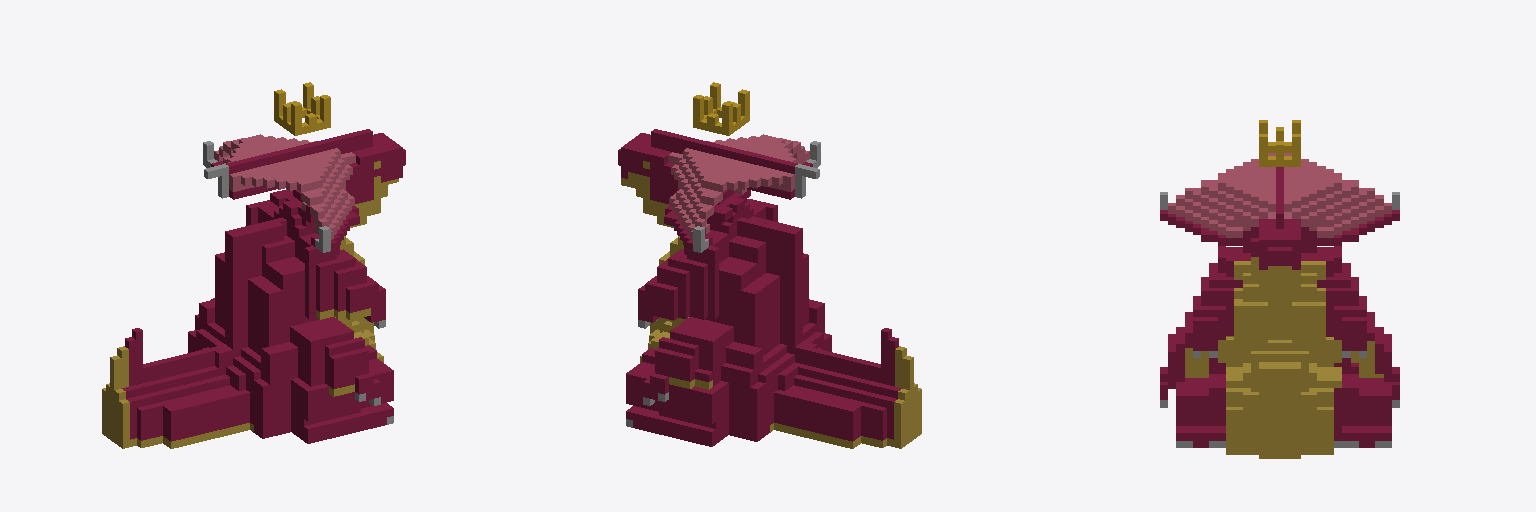
3 renders of one model, left to right at view 1: azimuth 30°, elevation 25°; view 2: azimuth 150°, elevation 25°; view 3: azimuth 270°, elevation 25°, orthographic.
Visible parts, largest first — view 1: object 1; view 2: object 1; view 3: object 1.
Boxes of the visible parts, box(x1,y1,x2,y2) form: object 1: box(102, 82, 405, 448); object 1: box(618, 82, 921, 448); object 1: box(1160, 120, 1399, 458).
Bounding box in the file's own units: 4 × 4 × 2.9.
Materials: 1 (1 with a texture image).